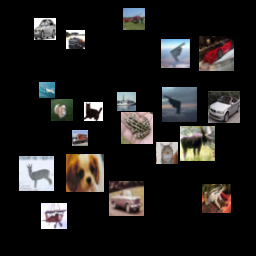airplane: (162, 87, 197, 122), (161, 39, 190, 68), (41, 203, 67, 229), (123, 8, 145, 30), (39, 82, 55, 98)
automobile: (109, 181, 144, 216), (199, 36, 234, 71), (208, 91, 240, 123), (34, 18, 56, 40)
cat: (156, 142, 178, 164), (84, 102, 103, 121)
deer: (180, 126, 215, 161), (19, 156, 54, 191)
dog: (66, 154, 104, 192), (51, 99, 73, 121)
frog: (121, 112, 153, 144), (202, 184, 231, 213)
ship: (117, 92, 136, 111), (66, 30, 85, 49)
